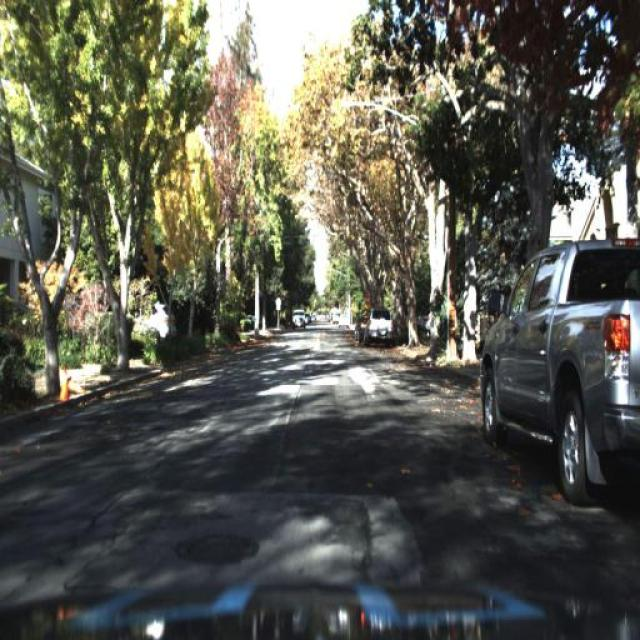car: (481, 230, 638, 506), (142, 299, 176, 340), (365, 307, 394, 338), (350, 310, 366, 330)
